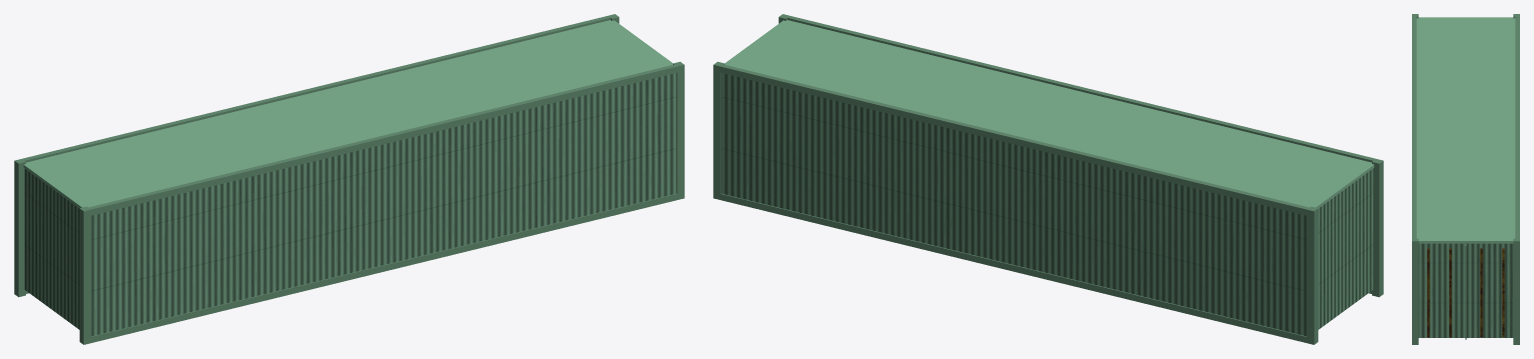
The model's file is iso-40-green.loc-v1.lod1.glb.
3 renders of one model, left to right at view 1: azimuth 30°, elevation 25°; view 2: azimuth 150°, elevation 25°; view 3: azimuth 270°, elevation 25°, orthographic. The views are drawn at different scales.
Parts seen in each view (by area): view 1: iso-40-green; view 2: iso-40-green; view 3: iso-40-green.
Boxes of the visible parts, x1,y1,x2,y2 form: iso-40-green: [14, 14, 684, 344]; iso-40-green: [713, 14, 1383, 344]; iso-40-green: [1412, 14, 1519, 344].
Size of the model in its own units: 12.2 by 2.59 by 2.44.
3 materials, 2 textured.
